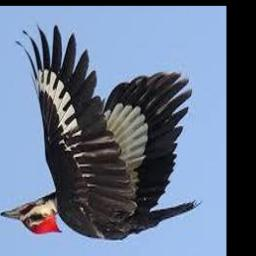Woodpecker: (1, 26, 204, 242)
